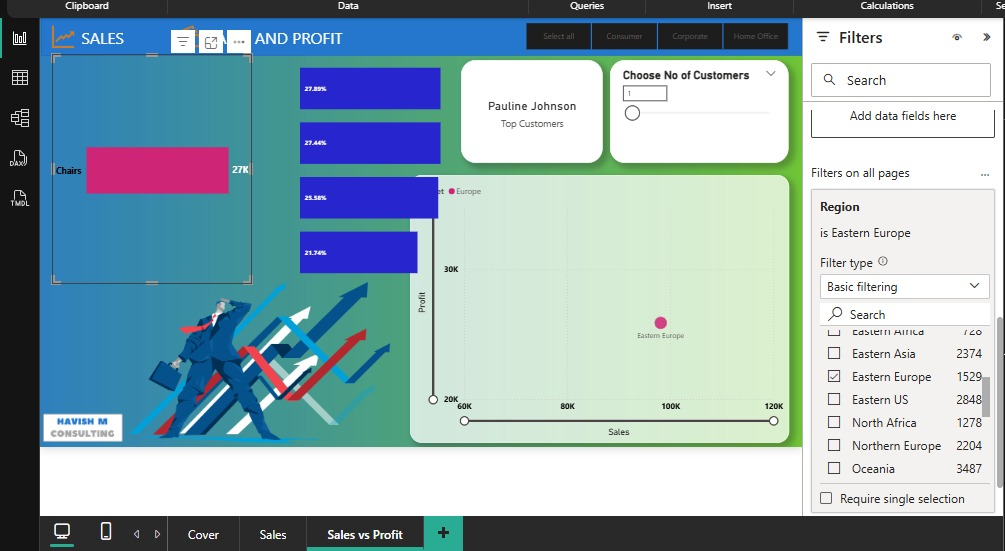

Layout of this report page (visuals, bound fields, positions):
{"tool":"powerbi","page":{"name":"Sales vs Profit","canvas":[1280,720],"ordinal":2},"visuals":[{"type":"shape","box":[0.9,0,1279.1,63.1],"z":0},{"type":"scatterChart","fields":{"Y":["Sum(Table13.Profit)"],"X":["Sum(Table13.Sales)"],"Category":["Table13.Region"],"Size":["Table13.PM"],"Series":["Table13.Market"]},"box":[678.1,254.5,529.2,133],"z":1000},{"type":"image","box":[0,656.9,143.8,63.1],"z":2000},{"type":"image","box":[136.8,437.6,465.7,282.4],"z":3000},{"type":"barChart","fields":{"Category":["Table13.Sub-Category"],"Y":["Table13.PM"]},"box":[340.9,70.3,336.8,366.7],"z":4000},{"type":"barChart","fields":{"Y":["Sum(Table13.Sales)"],"Category":["Table13.Sub-Category"]},"box":[20.7,59.9,334.7,387.4],"z":5000},{"type":"image","box":[2.7,0,70.3,63.1],"z":6000},{"type":"shape","box":[49.6,0,110,63.1],"z":7000},{"type":"image","box":[210,0,70.3,63.1],"z":8000},{"type":"shape","box":[265,0,259.6,63.1],"z":9000},{"type":"slicer","fields":{"Values":["Table13.Segment"]},"box":[790.5,1.8,489.5,57.7],"z":10000},{"type":"slicer","fields":{"Values":["Table13.Market"]},"box":[678.1,69.4,472.8,157.6],"z":11000},{"type":"tableEx","fields":{"Values":["Table13.Customer Name","Sum(Table13.Sales)","Sum(Table13.Profit)"]},"box":[678.1,438.1,514.7,260.2],"z":11001}]}

Visuals, with their boxes on the page's 1280x720 design canvas (x1, y1, x2, y2). These are canvas units, not pixel positions in the 1005x551 screenshot, which may show the page scaled, cropped or inside an application window:
shape: select_region(1, 0, 1280, 63)
scatterChart - Sum(Table13.Profit) x Sum(Table13.Sales): select_region(678, 254, 1207, 388)
image: select_region(0, 657, 144, 720)
image: select_region(137, 438, 602, 720)
barChart - Table13.Sub-Category x Table13.PM: select_region(341, 70, 678, 437)
barChart - Sum(Table13.Sales) x Table13.Sub-Category: select_region(21, 60, 355, 447)
image: select_region(3, 0, 73, 63)
shape: select_region(50, 0, 160, 63)
image: select_region(210, 0, 280, 63)
shape: select_region(265, 0, 525, 63)
slicer - Table13.Segment: select_region(790, 2, 1280, 60)
slicer - Table13.Market: select_region(678, 69, 1151, 227)
tableEx - Table13.Customer Name x Sum(Table13.Sales): select_region(678, 438, 1193, 698)
